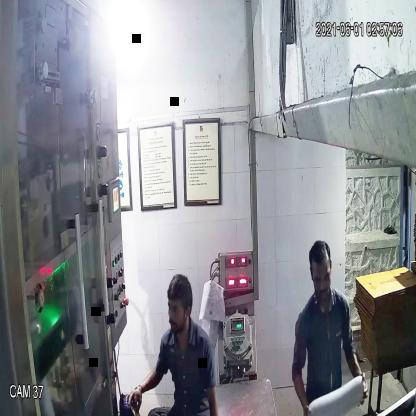no_goggles: (165, 300, 194, 320), (310, 268, 334, 289)
